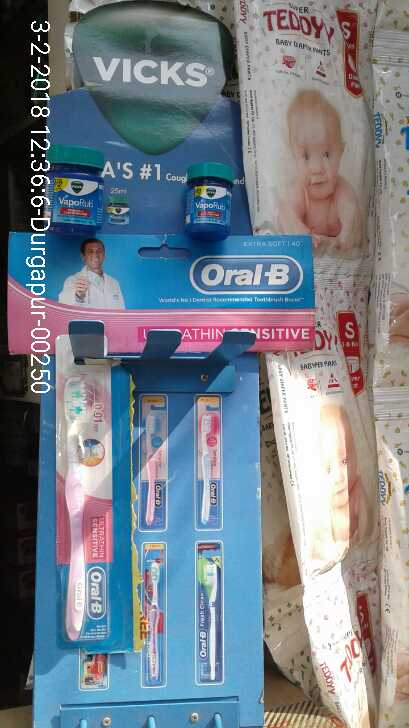pharmacy: (56, 375, 104, 651), (37, 146, 112, 240), (175, 170, 250, 241)
